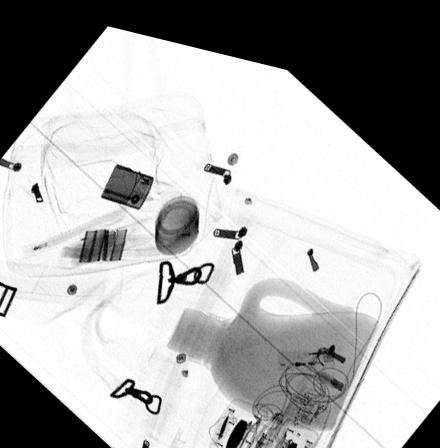Lighter: (99, 156, 152, 202), (276, 329, 334, 356)
